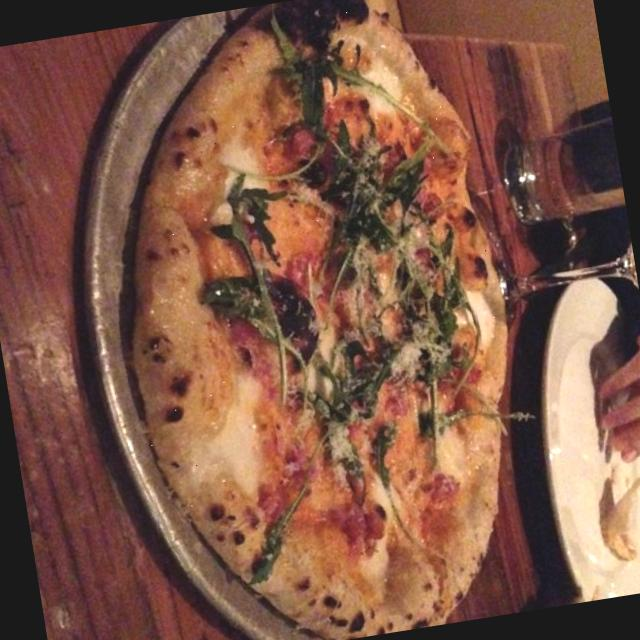basil: (361, 90, 496, 460), (248, 242, 423, 526), (182, 171, 315, 424), (248, 27, 400, 244), (226, 479, 324, 596)
pizza: (131, 0, 506, 640)
